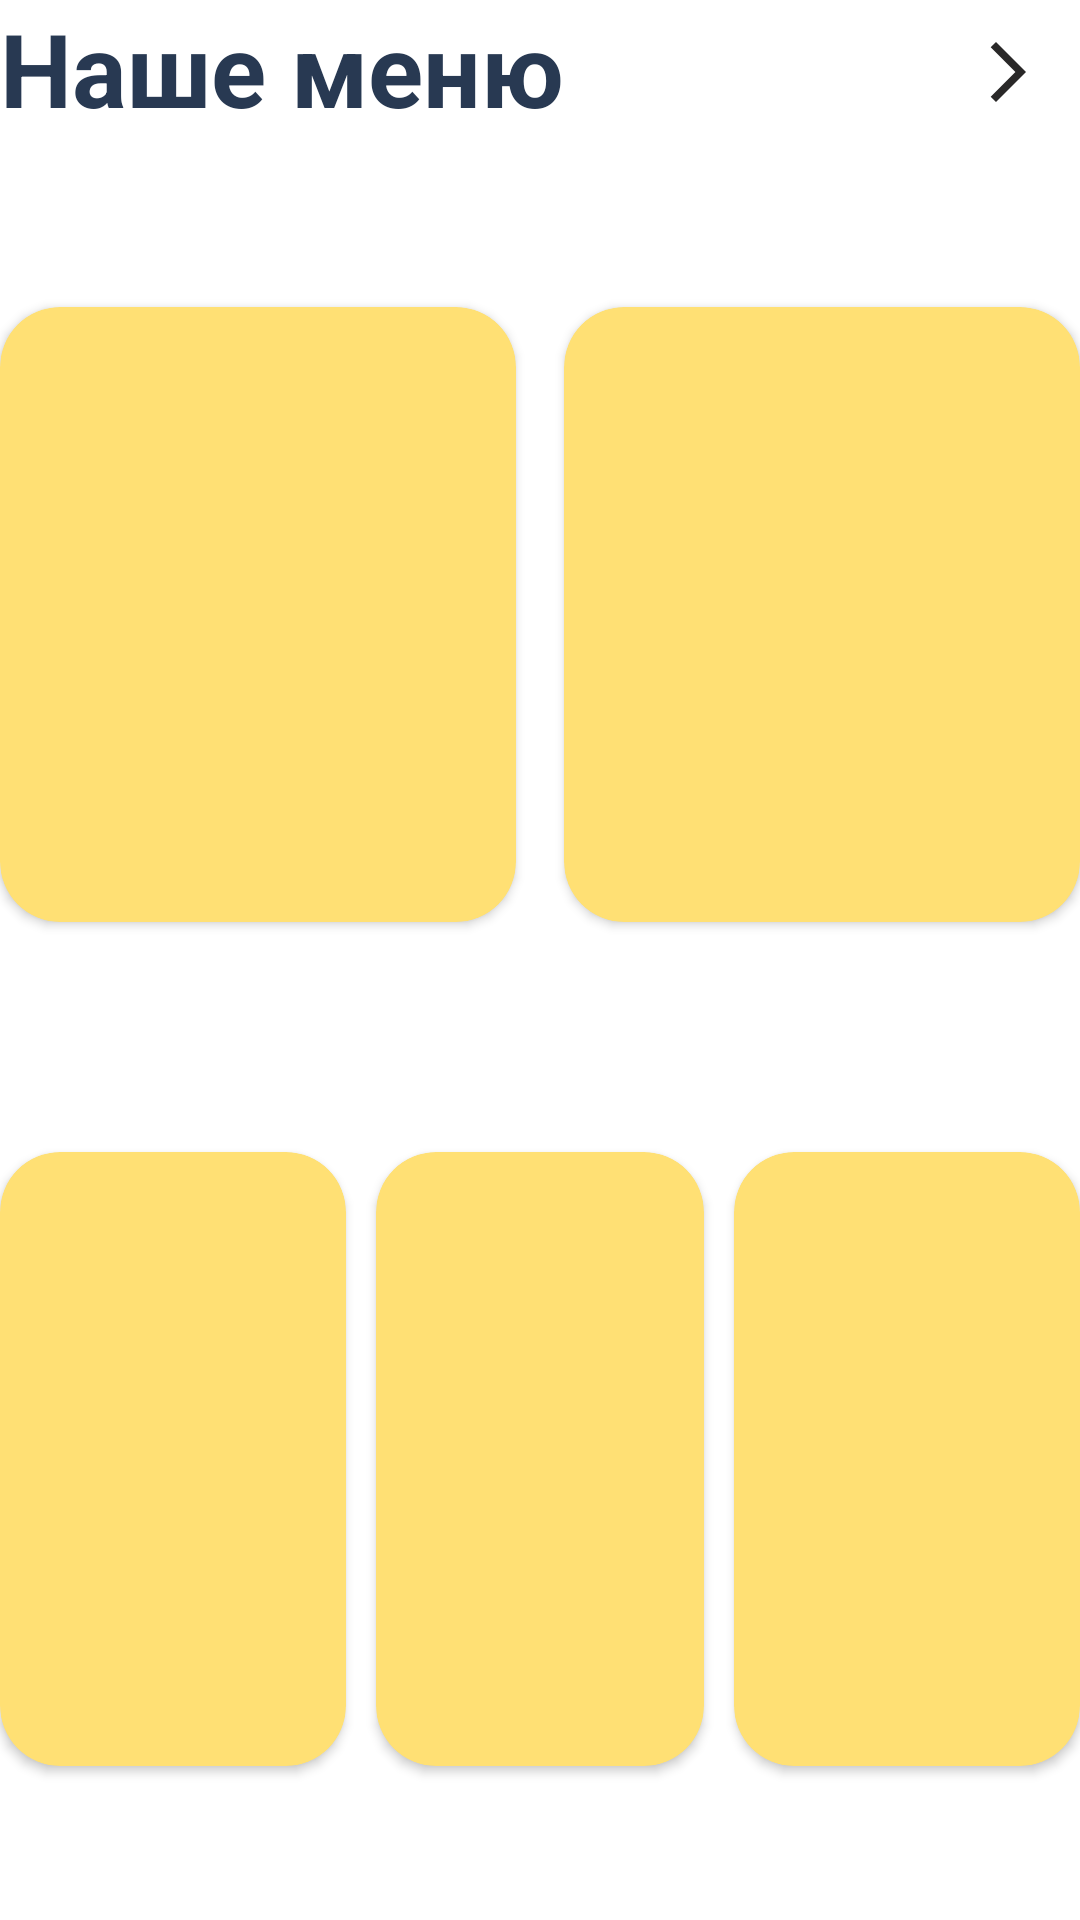

Locate icon controls on the screen. Image size 1080×1920, boxes as (x1, y1, x2, y2).
arrow: (991, 42, 1026, 102)
